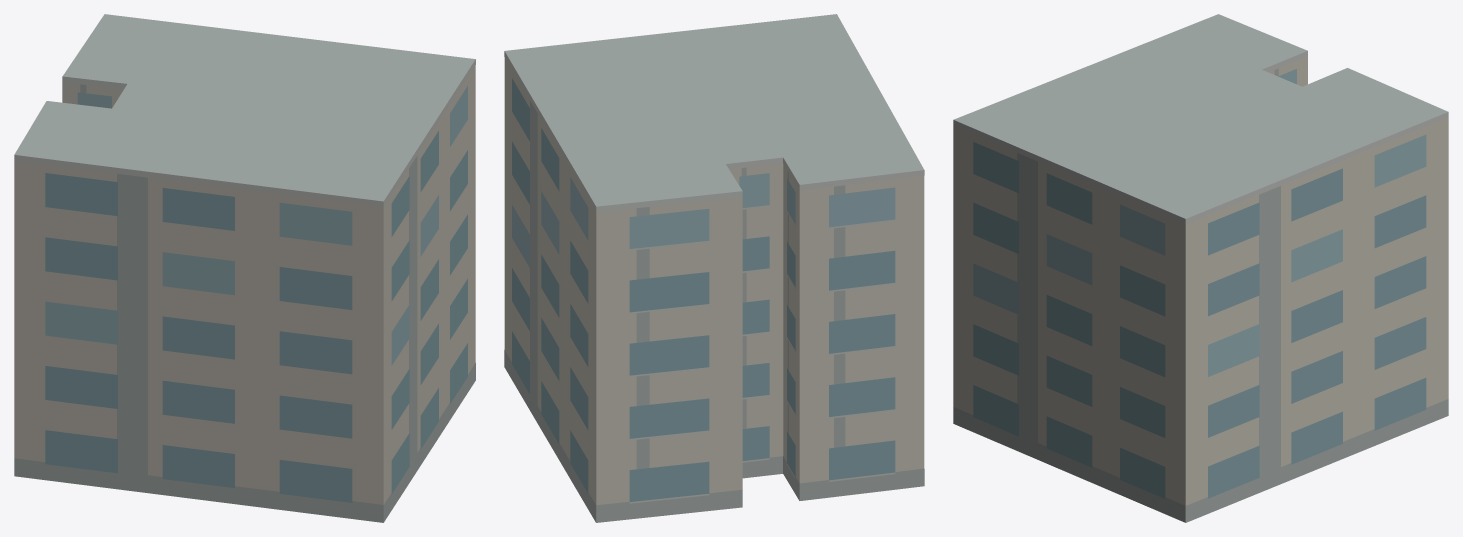
Rendered from survey-upis-32885060.glb.
3 views of the same model, side by side, from view 1: azimuth 30°, elevation 25°; view 2: azimuth 150°, elevation 25°; view 3: azimuth 270°, elevation 25° (orthographic). The views are drawn at different scales.
Visible parts, largest first — view 1: survey-upis-32885060.tmp; view 2: survey-upis-32885060.tmp; view 3: survey-upis-32885060.tmp.
Part boxes in pixels (left/top/right/bottom): survey-upis-32885060.tmp: left=14, top=14, right=475, bottom=522; survey-upis-32885060.tmp: left=504, top=14, right=924, bottom=522; survey-upis-32885060.tmp: left=953, top=14, right=1448, bottom=522.
Size of the model in its own units: 19.1 by 13.2 by 19.5.
